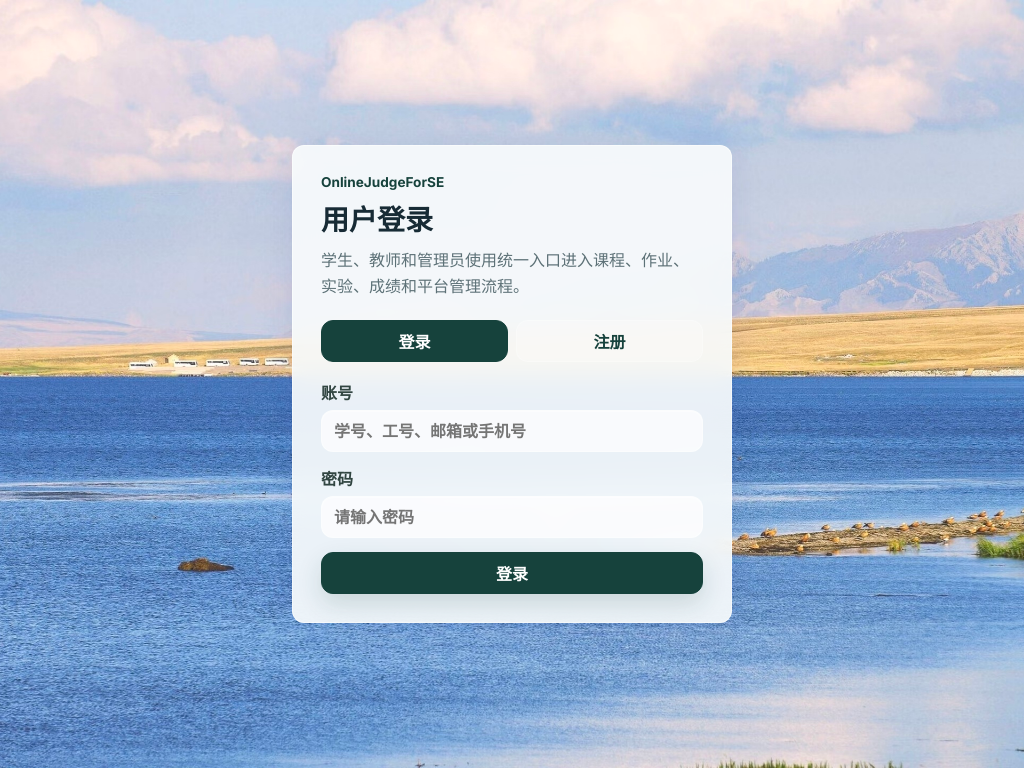
it: AuthView › switches to register mode and renders backend validation failures
Click the button "注册" at (610,341), box [516, 320, 703, 362]
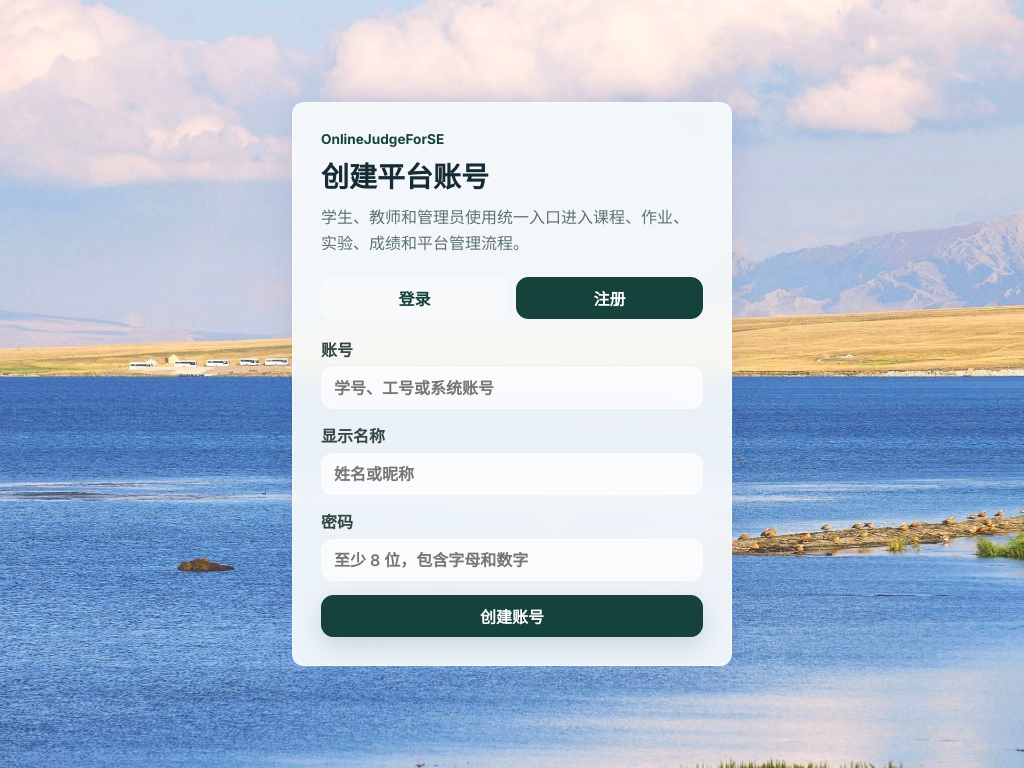
Type "student45" into the field named "username" at (512,388), box [321, 367, 703, 409]
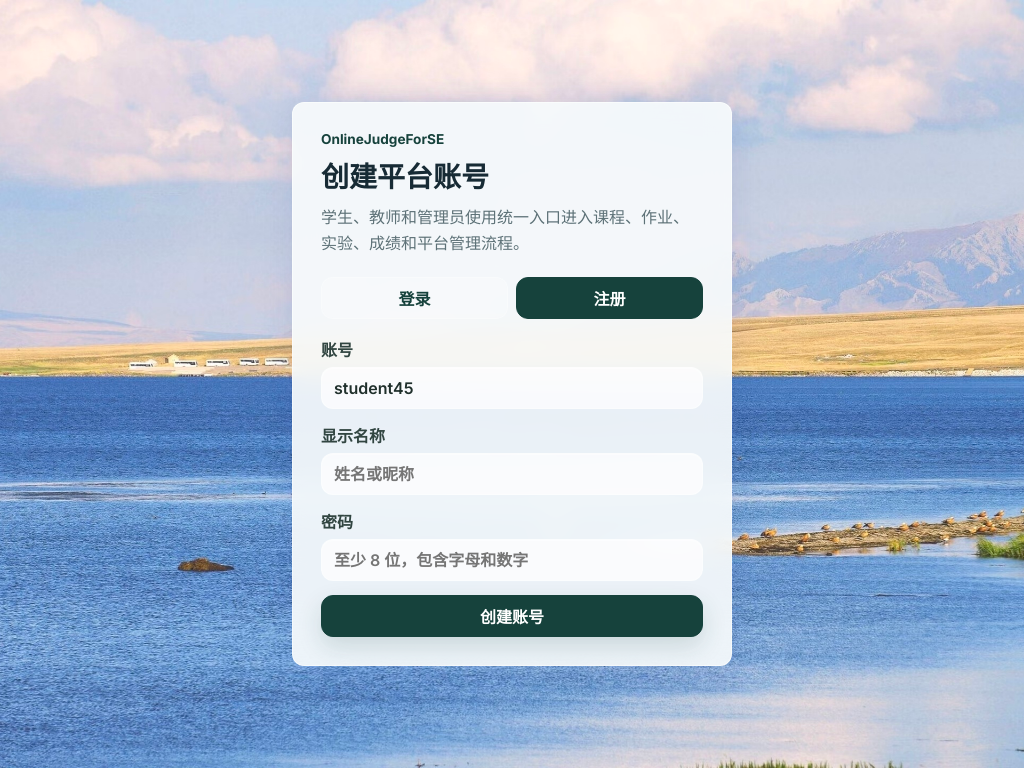
Type "学生45" into the field named "displayName" at (512,474), box [321, 453, 703, 495]
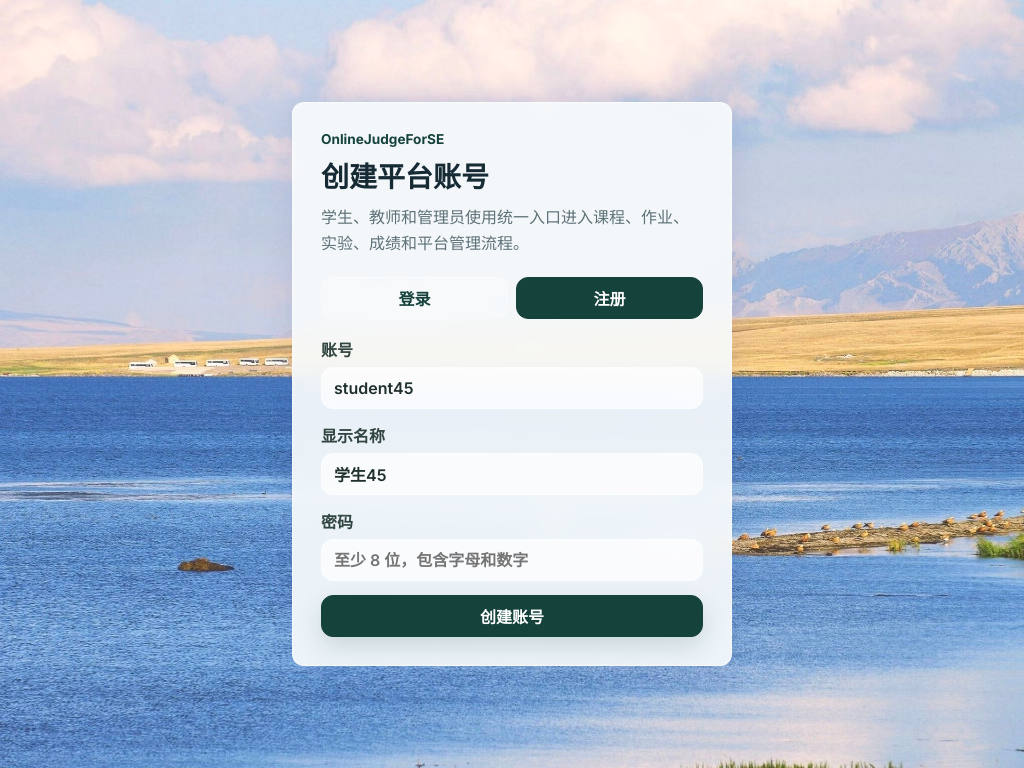
Type "Student45@pass" into the password field named "registerPassword" at (512,560), box [321, 539, 703, 581]
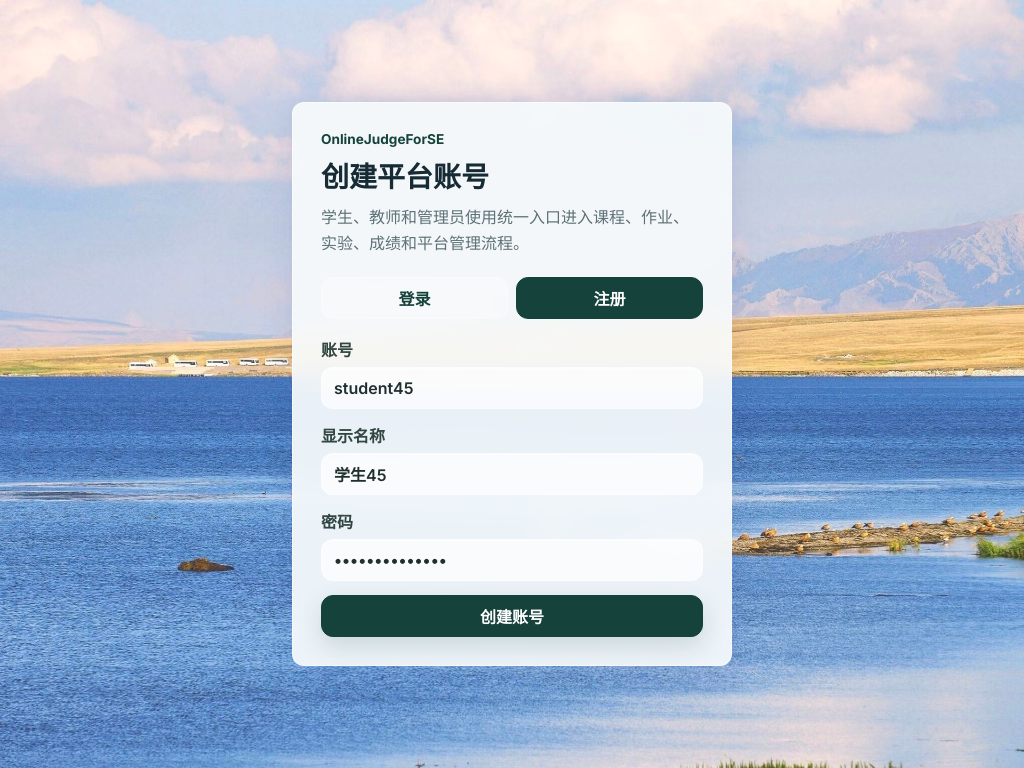
Submit the form, box [321, 337, 703, 637]
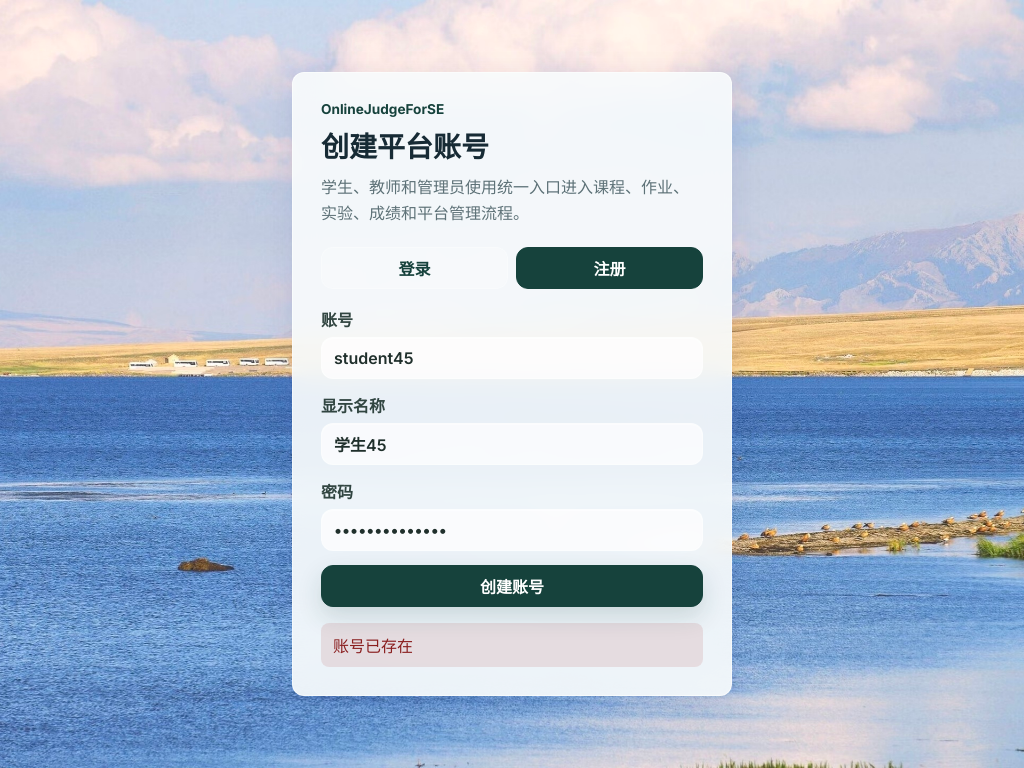
Check: the text "创建平台账号" is shown, box [321, 130, 489, 164]
Check: the text "账号已存在" is shown, box [321, 623, 703, 667]
